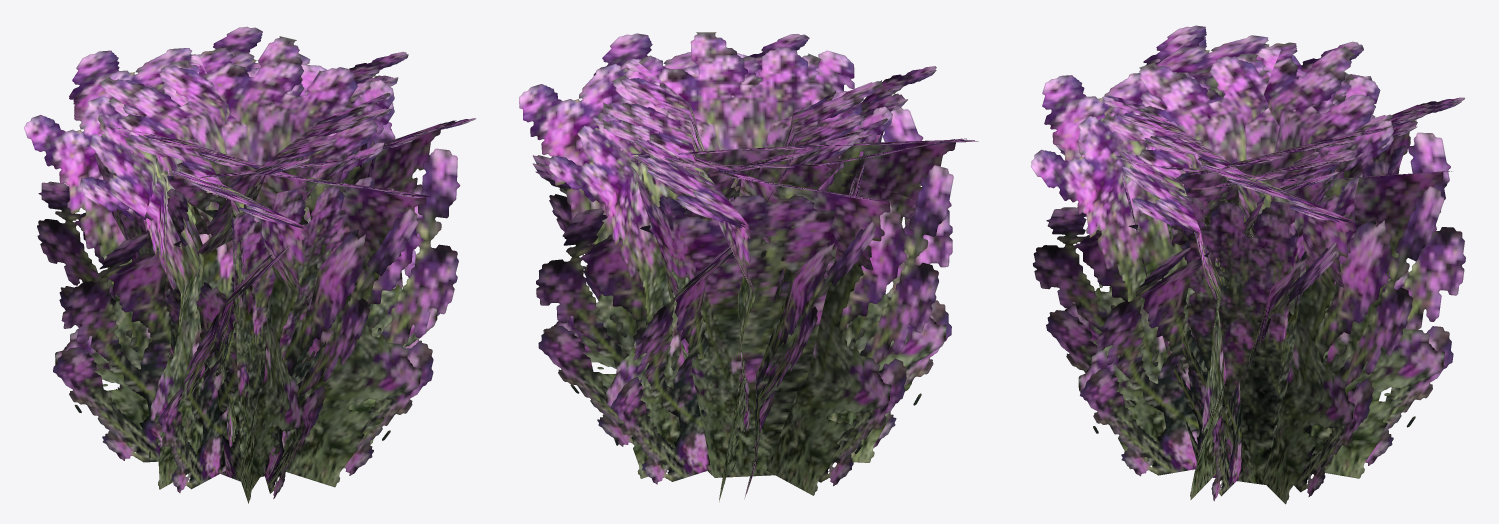
File: Wild Lavinder.fbx
The picture shows the model from 3 angles, left to right: view 1: azimuth 30°, elevation 25°; view 2: azimuth 150°, elevation 25°; view 3: azimuth 270°, elevation 25°; orthographic projection.
Visible parts, largest first — view 1: Wild Lavinder; view 2: Wild Lavinder; view 3: Wild Lavinder.
Boxes of the visible parts, bbox=[...] form: Wild Lavinder: bbox=[24, 26, 476, 503]; Wild Lavinder: bbox=[519, 32, 978, 501]; Wild Lavinder: bbox=[1030, 25, 1465, 504].
Size of the model in its own units: 2.14 by 1.8 by 2.1.
1 material, 1 textured.
